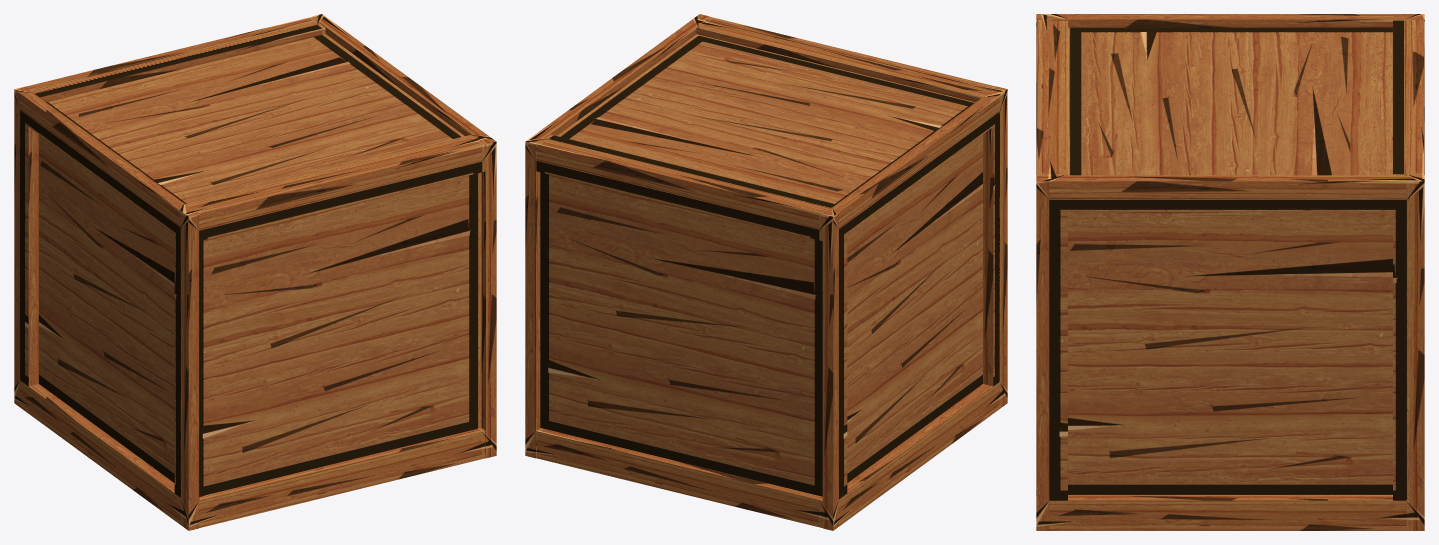
The model's file is caixa.FBX.
3 renders of one model, left to right at view 1: azimuth 30°, elevation 25°; view 2: azimuth 150°, elevation 25°; view 3: azimuth 270°, elevation 25°, orthographic. The views are drawn at different scales.
Visible parts, largest first — view 1: Cube; view 2: Cube; view 3: Cube.
Part boxes in pixels (<box>): Cube: <box>14,14,496,530</box>; Cube: <box>525,14,1007,530</box>; Cube: <box>1036,14,1424,530</box>.
Bounding box in the file's own units: 215 × 209 × 211.
Materials: 1 (1 with a texture image).
